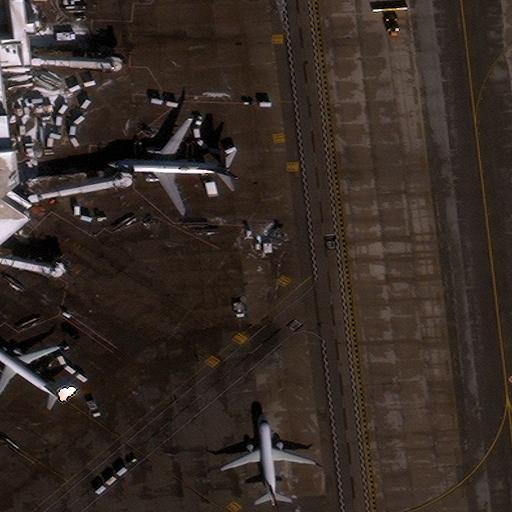Medium Civil Transport: (108, 118, 238, 215), (223, 420, 313, 504), (0, 340, 59, 397)
